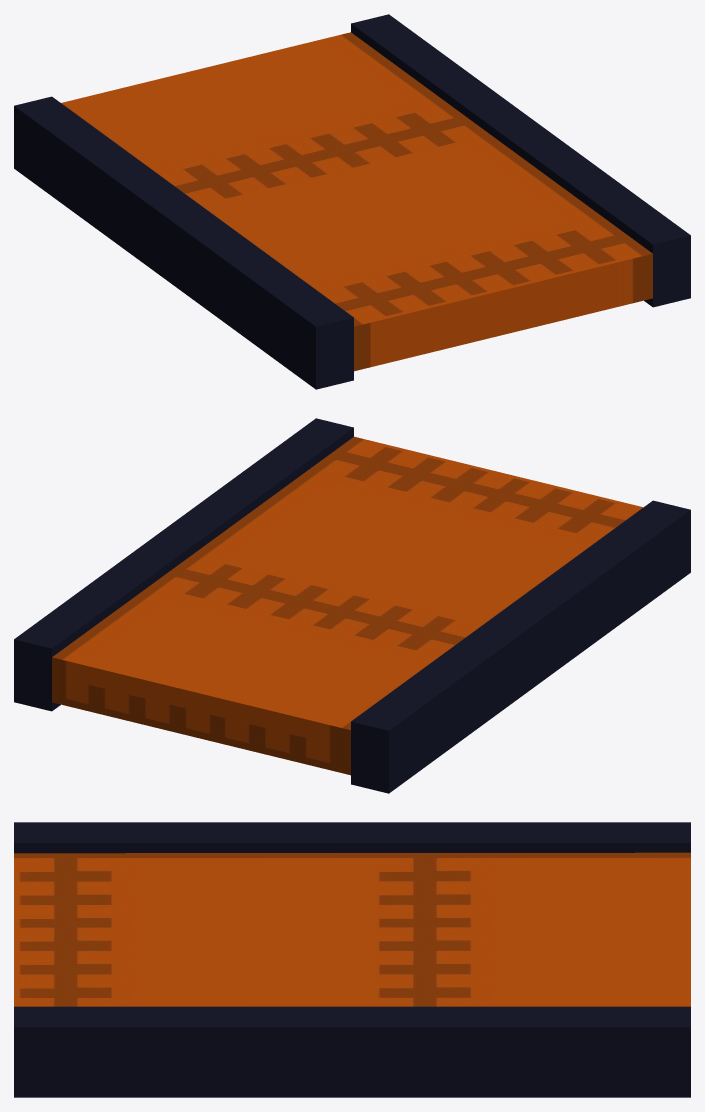
Rendered from conveyor.fbx.
3 renders of one model, top to bottom at view 1: azimuth 30°, elevation 25°; view 2: azimuth 150°, elevation 25°; view 3: azimuth 270°, elevation 25°, orthographic. The views are drawn at different scales.
Visible parts, largest first — view 1: conveyorStraight; view 2: conveyorStraight; view 3: conveyorStraight.
Part boxes in pixels (left/top/right/bottom): conveyorStraight: left=14, top=14, right=690, bottom=389; conveyorStraight: left=14, top=418, right=690, bottom=793; conveyorStraight: left=14, top=822, right=690, bottom=1097.
Bounding box in the file's own units: 5.39 × 0.8636 × 7.52.
